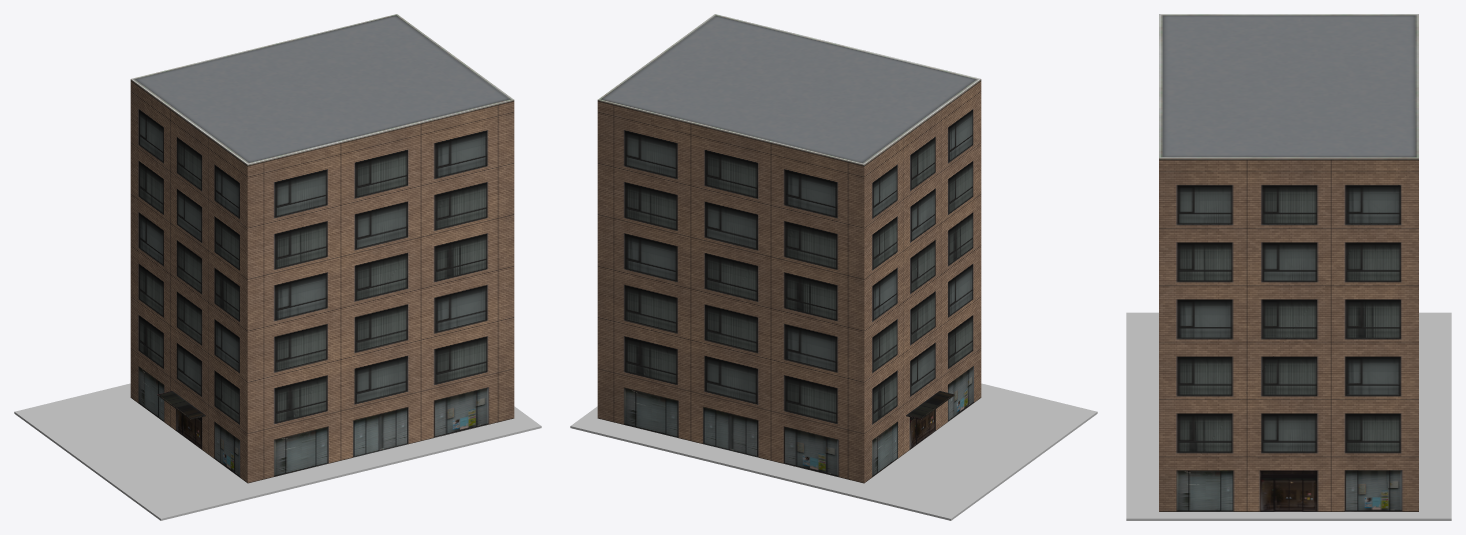
Rendered from Office_building_beige.fbx.
3 renders of one model, left to right at view 1: azimuth 30°, elevation 25°; view 2: azimuth 150°, elevation 25°; view 3: azimuth 270°, elevation 25°, orthographic. The views are drawn at different scales.
Parts seen in each view (by area): view 1: 100_office_building_beige, 000_Site_office_building_beige; view 2: 100_office_building_beige, 000_Site_office_building_beige; view 3: 100_office_building_beige, 000_Site_office_building_beige.
Boxes of the visible parts, <box> form: 100_office_building_beige: <box>130,14,514,483</box>; 000_Site_office_building_beige: <box>14,383,541,520</box>; 100_office_building_beige: <box>597,14,981,483</box>; 000_Site_office_building_beige: <box>570,383,1097,520</box>; 100_office_building_beige: <box>1159,14,1418,511</box>; 000_Site_office_building_beige: <box>1126,312,1451,520</box>.
Bounding box in the file's own units: 30 × 24.15 × 20.
